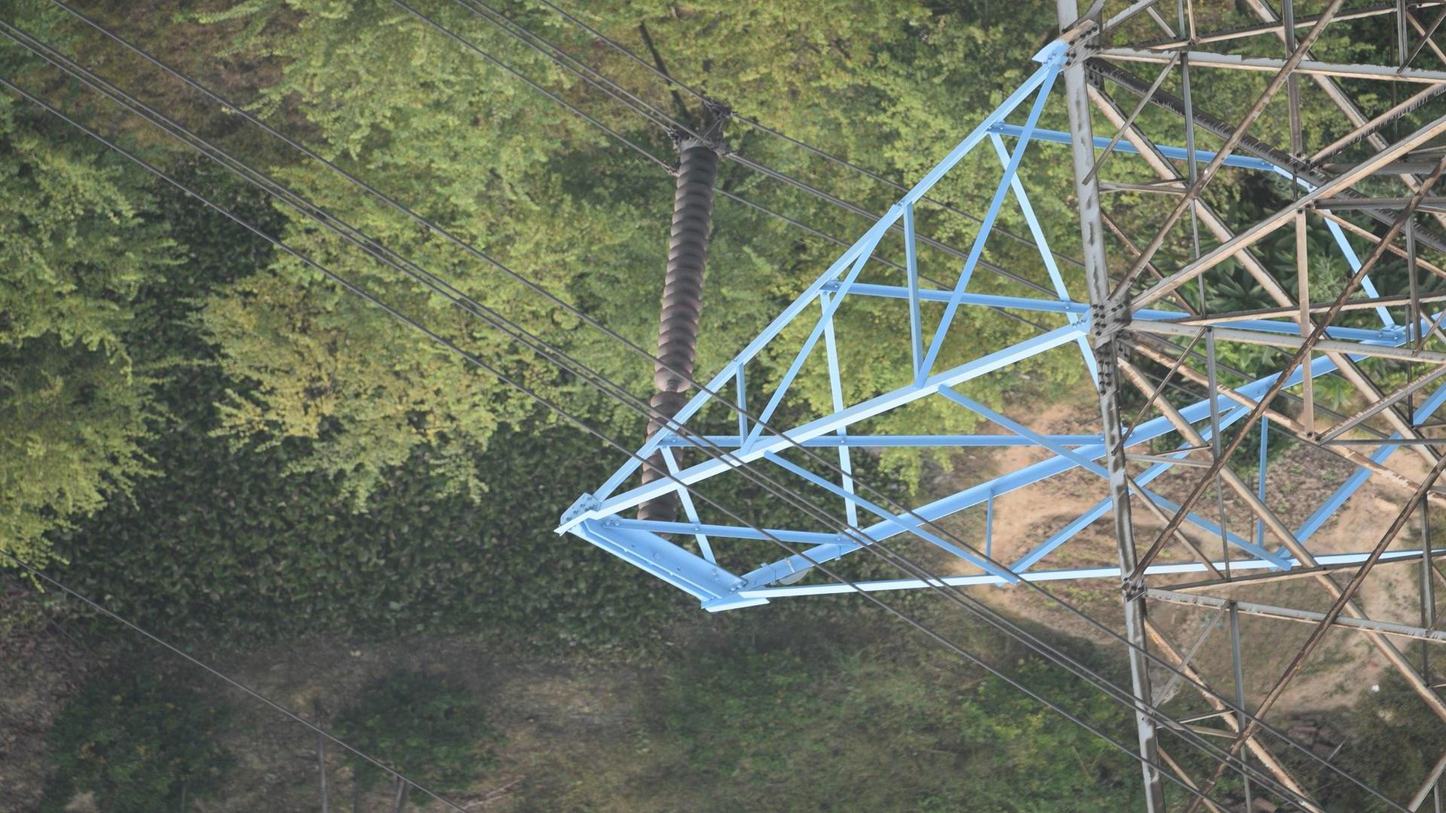insulator: (628, 132, 731, 532)
insulator_stringdrop: (647, 364, 694, 410)
